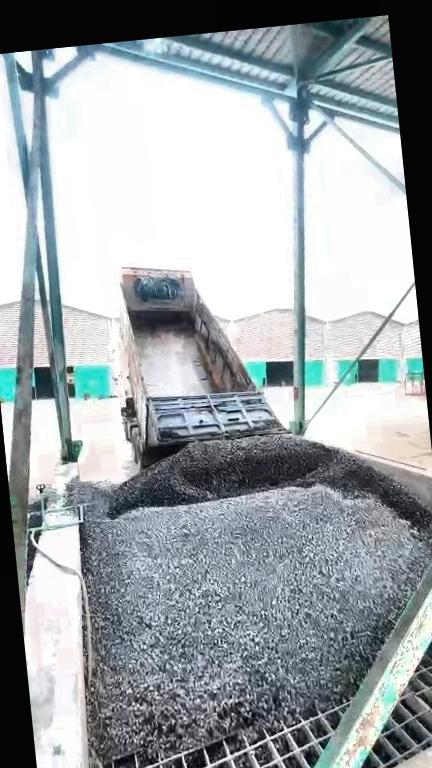gravel: (63, 474, 432, 760), (108, 434, 432, 535), (431, 614, 432, 656)
sand: (383, 426, 432, 468)
